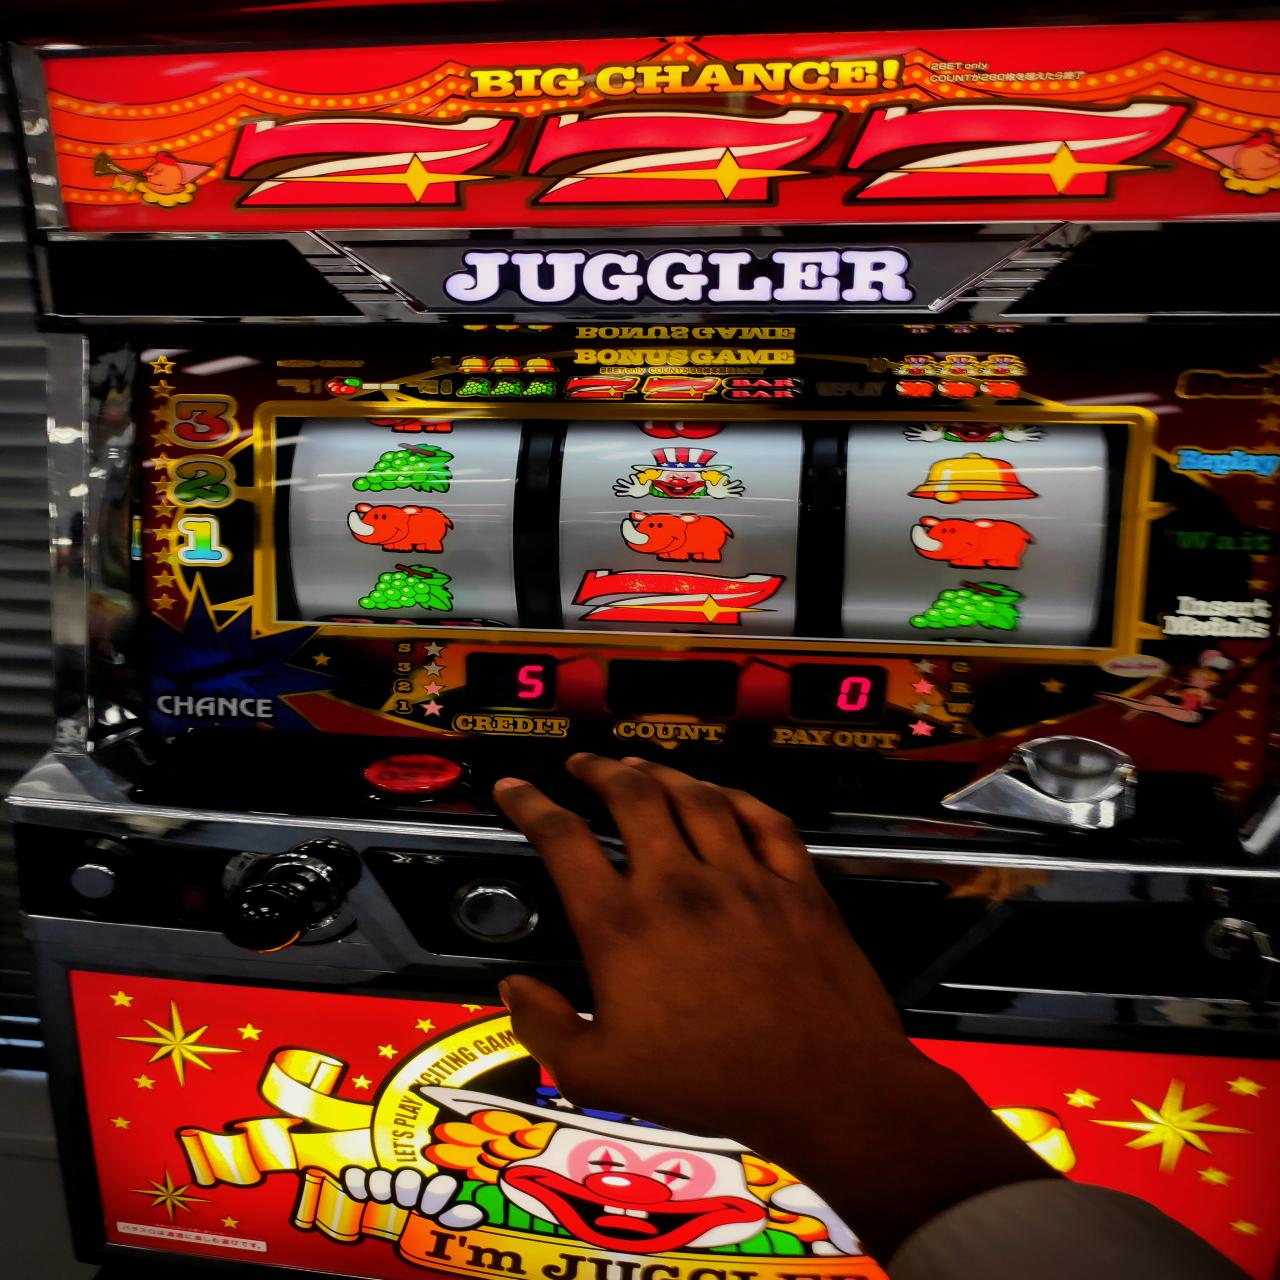7: (571, 567, 783, 627), (904, 513, 1028, 568)
8: (614, 508, 733, 565), (342, 504, 451, 552)
Display: (270, 414, 1121, 651)
bell: (906, 449, 1043, 508)
clown: (613, 445, 747, 504)
grape: (906, 581, 1028, 633), (346, 441, 455, 495), (359, 560, 457, 613)
